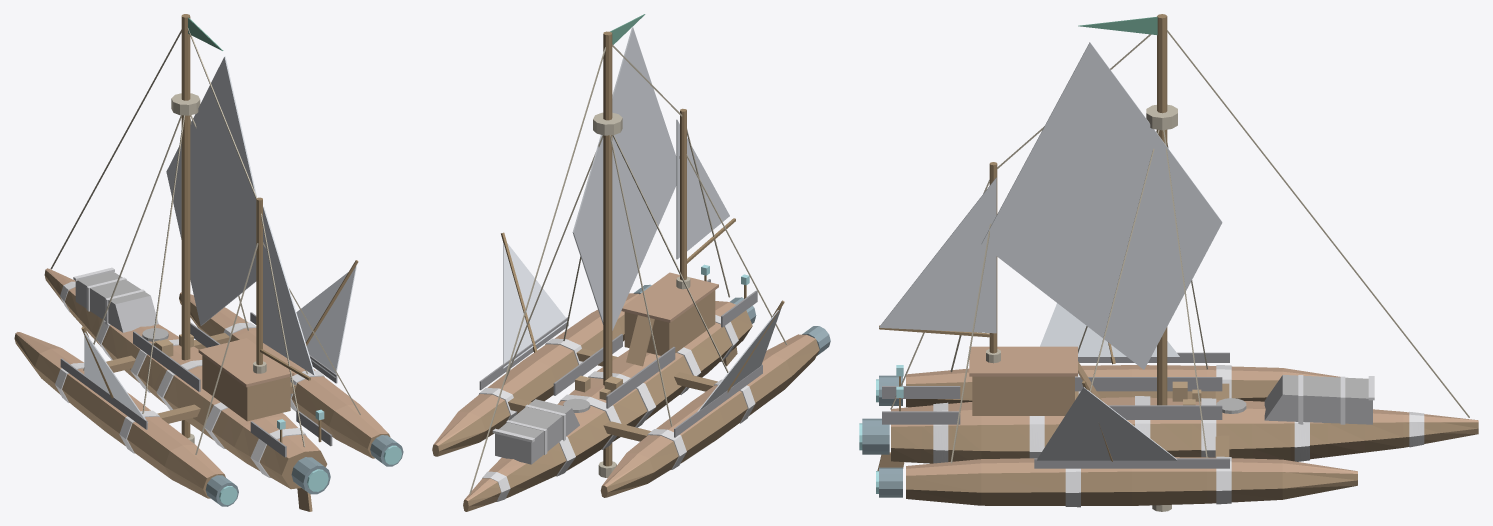
The picture shows the model from 3 angles, left to right: view 1: azimuth 30°, elevation 25°; view 2: azimuth 150°, elevation 25°; view 3: azimuth 270°, elevation 25°; orthographic projection. The views are drawn at different scales.
Visible parts, largest first — view 1: Hunter mast and sail, Hunter stern, Hunter port pontoon, Hunter starboard pontoon, Hunter nose, Hunter mizzen sail, Hunter side sails, Hunter midship; view 2: Hunter mast and sail, Hunter port pontoon, Hunter stern, Hunter starboard pontoon, Hunter nose, Hunter midship, Hunter side sails, Hunter mizzen sail; view 3: Hunter mast and sail, Hunter stern, Hunter starboard pontoon, Hunter nose, Hunter mizzen sail, Hunter side sails, Hunter port pontoon, Hunter midship.
Boxes of the visible parts, left/top/right/bottom form: Hunter mast and sail: left=50, top=14, right=360, bottom=454; Hunter stern: left=133, top=322, right=332, bottom=511; Hunter port pontoon: left=14, top=332, right=238, bottom=506; Hunter starboard pontoon: left=179, top=292, right=403, bottom=466; Hunter nose: left=44, top=267, right=168, bottom=373; Hunter mizzen sail: left=253, top=197, right=315, bottom=380; Hunter side sails: left=81, top=260, right=358, bottom=422; Hunter midship: left=117, top=329, right=208, bottom=434; Hunter mast and sail: left=469, top=14, right=787, bottom=494; Hunter port pontoon: left=600, top=326, right=830, bottom=497; Hunter stern: left=553, top=264, right=757, bottom=408; Hunter starboard pontoon: left=432, top=284, right=651, bottom=456; Hunter nose: left=463, top=398, right=596, bottom=511; Hunter midship: left=557, top=315, right=681, bottom=459; Hunter side sails: left=501, top=232, right=784, bottom=411; Hunter mizzen sail: left=676, top=108, right=735, bottom=289; Hunter mast and sail: left=890, top=14, right=1469, bottom=511; Hunter stern: left=859, top=346, right=1222, bottom=470; Hunter starboard pontoon: left=876, top=435, right=1357, bottom=507; Hunter nose: left=1216, top=375, right=1478, bottom=461; Hunter mizzen sail: left=879, top=162, right=1000, bottom=363; Hunter side sails: left=1037, top=303, right=1179, bottom=461; Hunter port pontoon: left=876, top=352, right=1340, bottom=407; Hunter midship: left=1075, top=361, right=1252, bottom=458.
Bounding box in the file's own units: 12.12 × 18 × 20.55.
